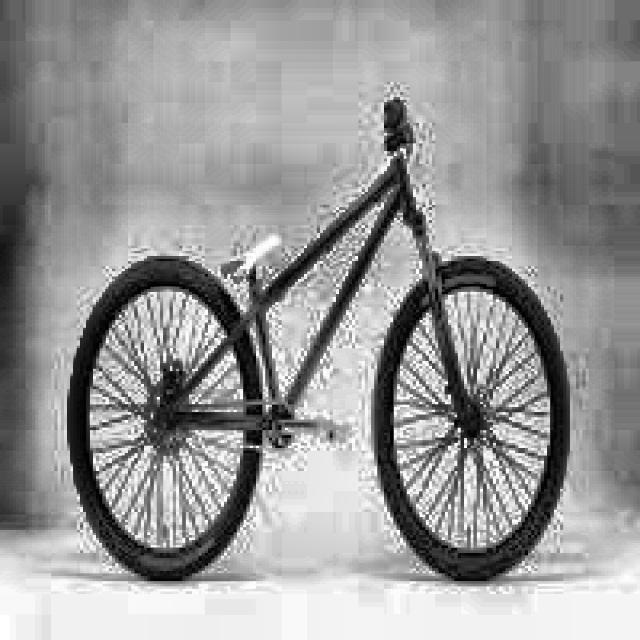motorcycle: (61, 87, 602, 586)
